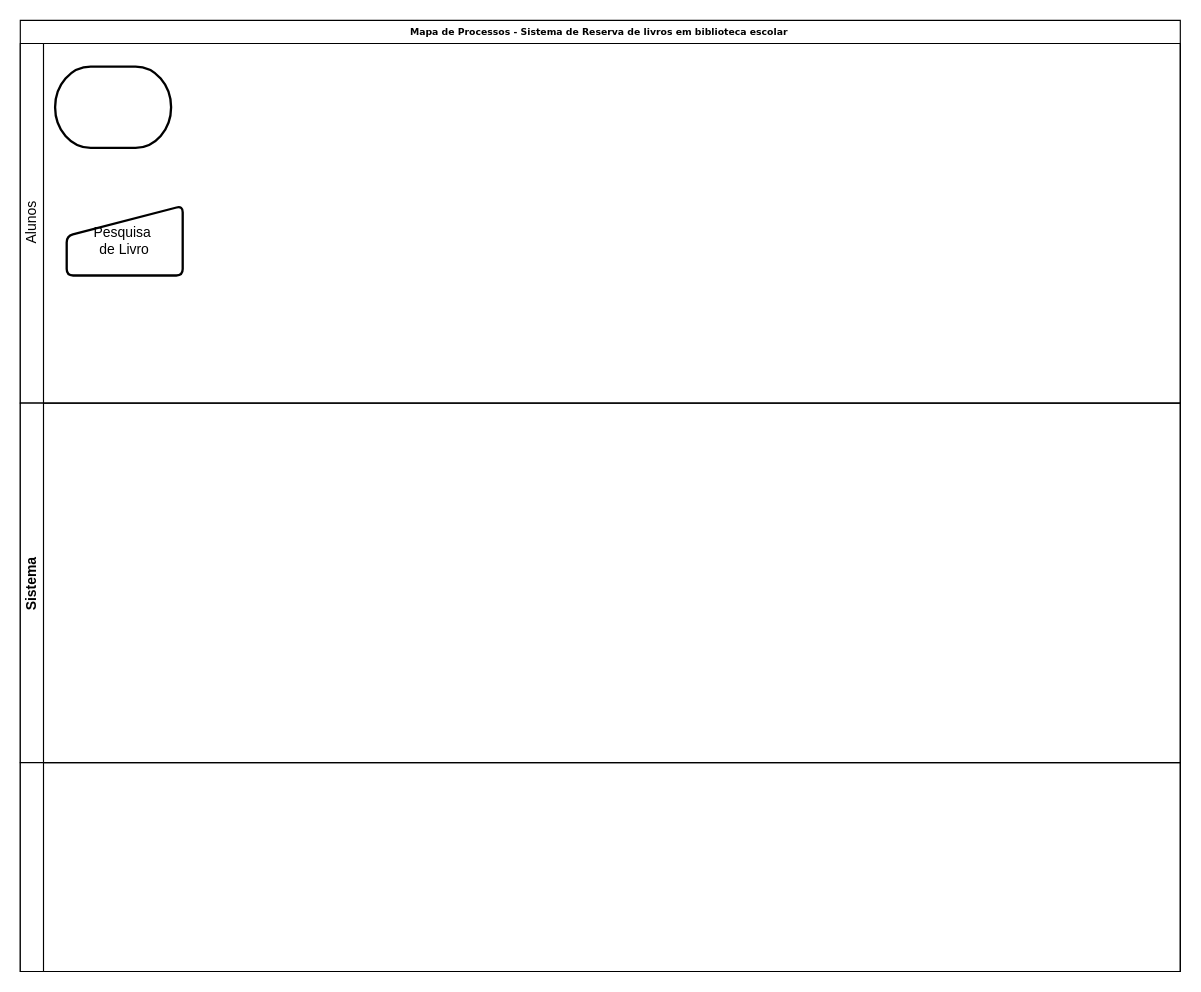
The diagram is 1201 pixels wide and 992 high, and some of its shapes have lost their labels. The shapes that lost their labels are listed below. From the top down, each one's centre as x and y in pixels, then its label:
At (x=112, y=106): "INÍCIO".
At (x=599, y=866): "Banco de Dados".
